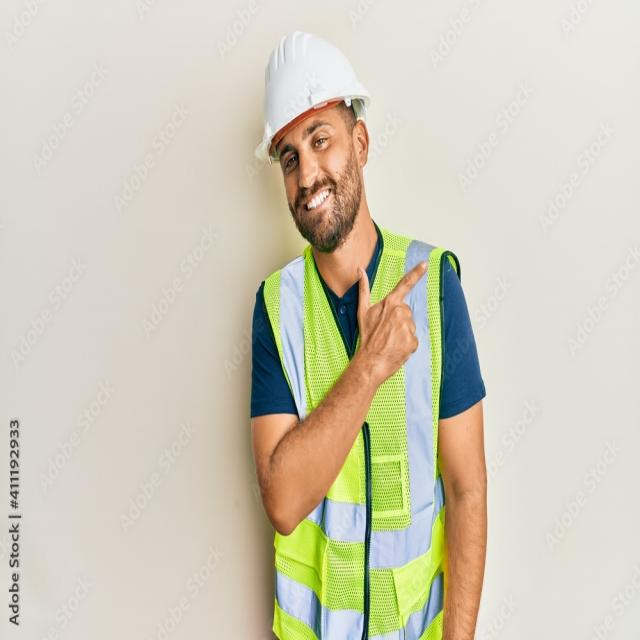Reflective-Jacket: (259, 237, 456, 633)
Safety-Helmet: (254, 26, 374, 148)
